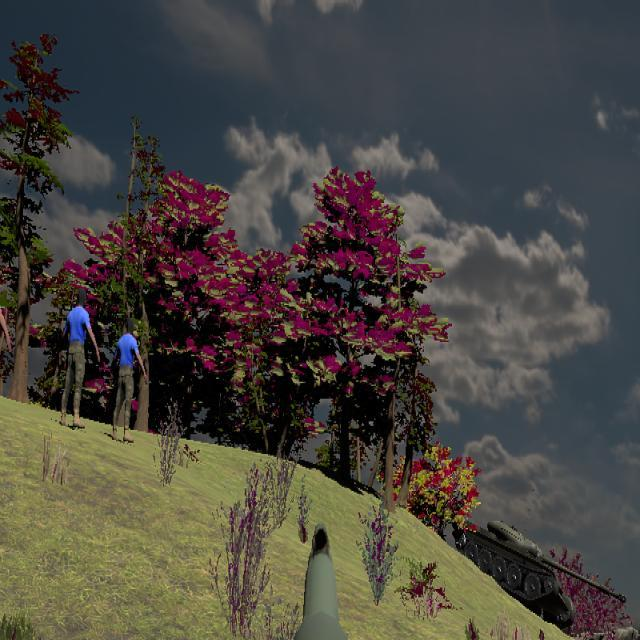Human: (61, 286, 100, 430), (111, 315, 147, 443), (0, 254, 10, 411)
Tank: (454, 518, 628, 628)
